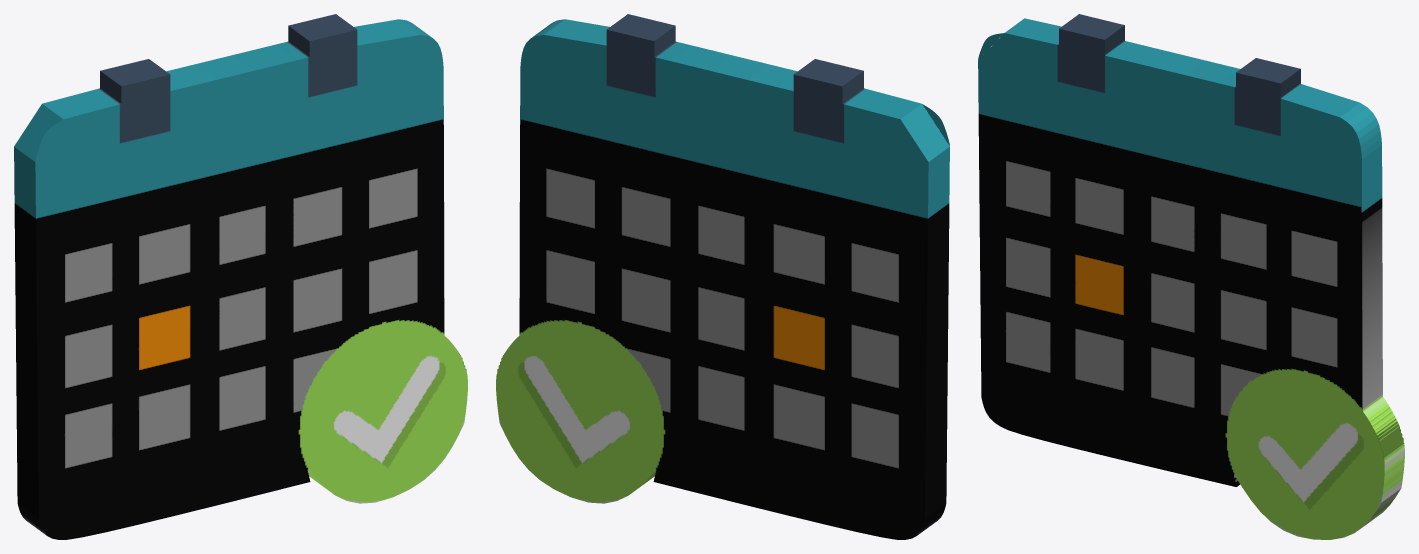
Rendered from calendarMarked.FBX.
3 views of the same model, side by side, from view 1: azimuth 30°, elevation 25°; view 2: azimuth 150°, elevation 25°; view 3: azimuth 330°, elevation 25° (orthographic). The views are drawn at different scales.
Visible parts, largest first — view 1: CalendarMarked; view 2: CalendarMarked; view 3: CalendarMarked.
Boxes of the visible parts, x1,y1,x2,y2 form: CalendarMarked: (14,14,467,539); CalendarMarked: (496,14,949,539); CalendarMarked: (978,14,1404,539).
Size of the model in its own units: 24.98 by 26.38 by 2.14.
Materials: 1 (1 with a texture image).
